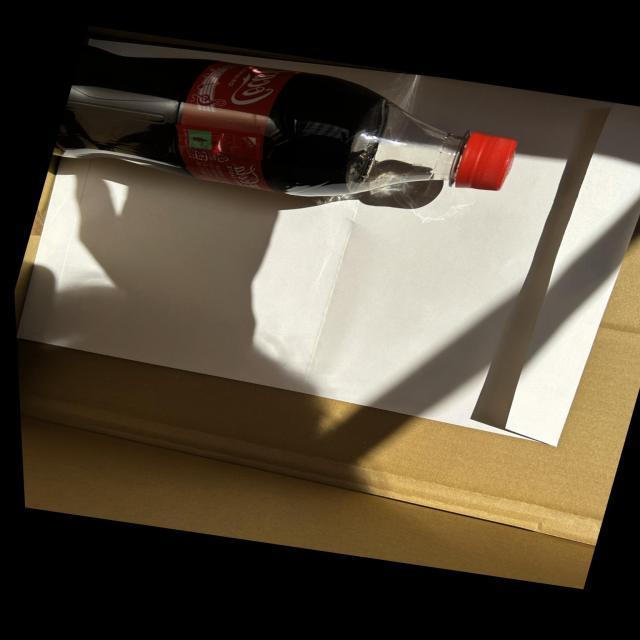high: (60, 45, 519, 195)
